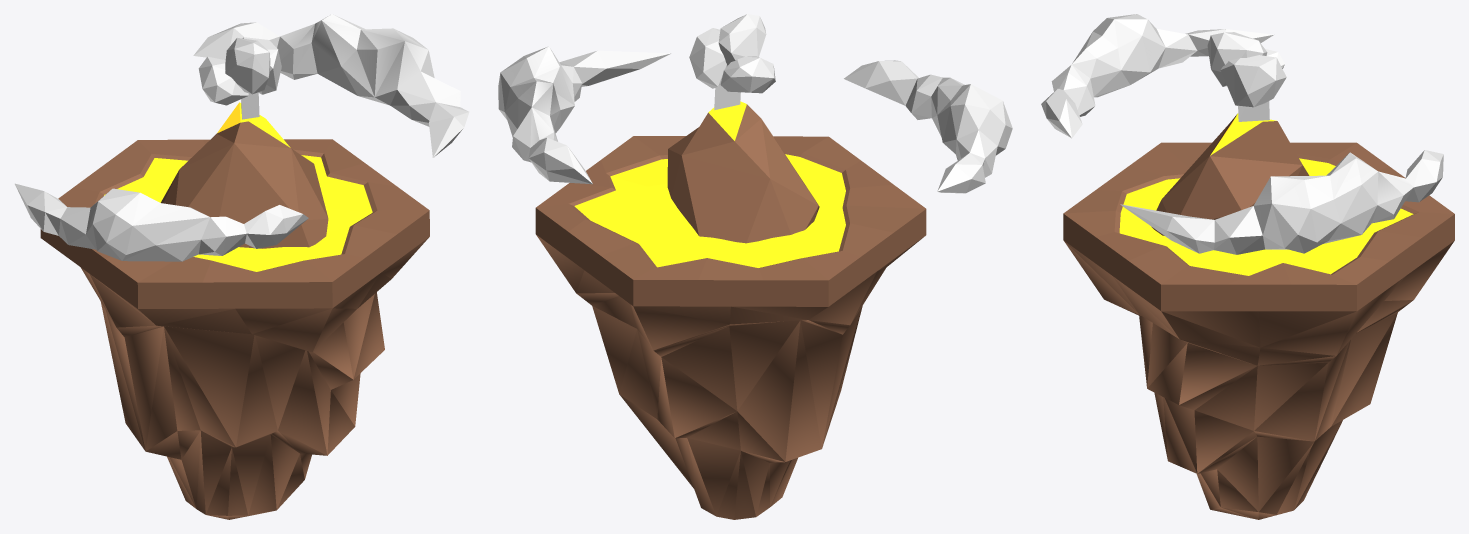
Rendered from fogo (Vulcao).fbx.
3 renders of one model, left to right at view 1: azimuth 30°, elevation 25°; view 2: azimuth 150°, elevation 25°; view 3: azimuth 270°, elevation 25°, orthographic.
Parts seen in each view (by area): view 1: fogo (Vulcão); view 2: fogo (Vulcão); view 3: fogo (Vulcão).
Boxes of the visible parts, <box> form: fogo (Vulcão): <box>15,14,469,519</box>; fogo (Vulcão): <box>498,14,1012,519</box>; fogo (Vulcão): <box>1041,14,1454,519</box>.
Size of the model in its own units: 1468 by 1568 by 1199.
